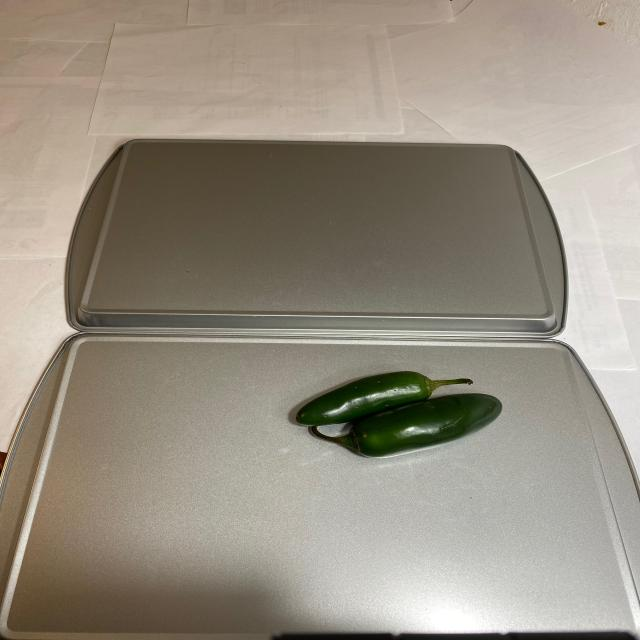chilli: (284, 374, 516, 466)
